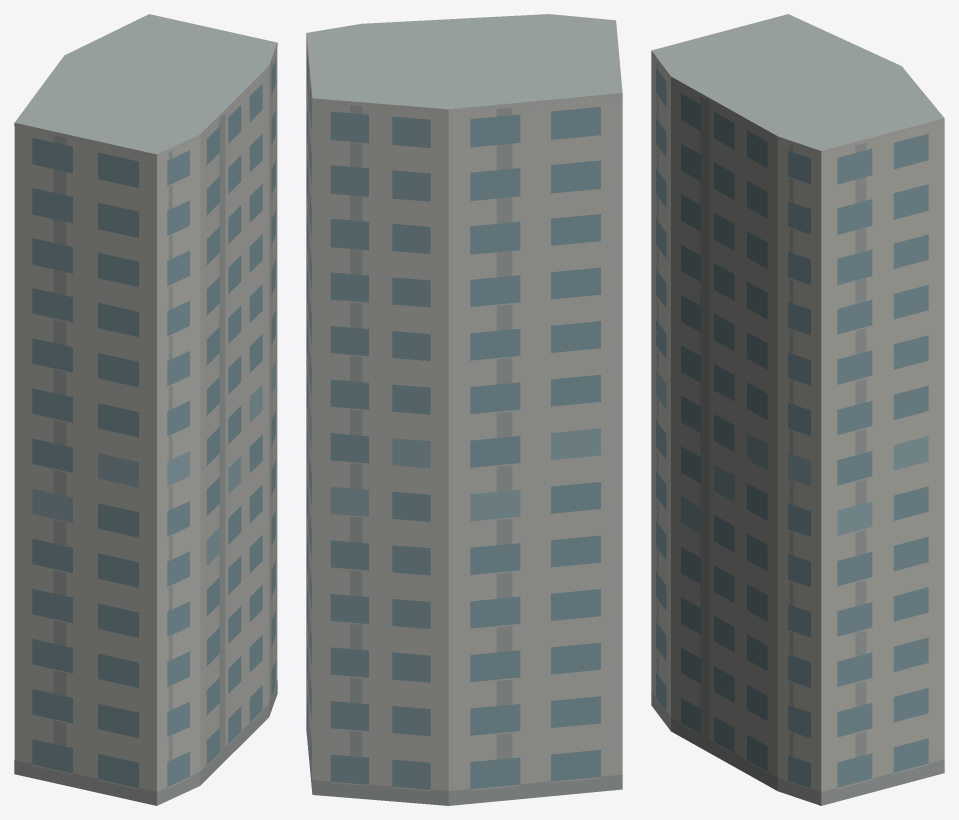
File: residential-4b415d2c-1478-4428-8661-1a3a672dc66f.glb
The picture shows the model from 3 angles, left to right: view 1: azimuth 30°, elevation 25°; view 2: azimuth 150°, elevation 25°; view 3: azimuth 270°, elevation 25°; orthographic projection. The views are drawn at different scales.
Parts seen in each view (by area): view 1: residential-4b415d2c-1478-4428-8661-1a3a672dc66f.tmp; view 2: residential-4b415d2c-1478-4428-8661-1a3a672dc66f.tmp; view 3: residential-4b415d2c-1478-4428-8661-1a3a672dc66f.tmp.
Part boxes in pixels (left/top/right/bottom): residential-4b415d2c-1478-4428-8661-1a3a672dc66f.tmp: left=14, top=14, right=277, bottom=805; residential-4b415d2c-1478-4428-8661-1a3a672dc66f.tmp: left=306, top=14, right=622, bottom=805; residential-4b415d2c-1478-4428-8661-1a3a672dc66f.tmp: left=651, top=14, right=944, bottom=805.
Bounding box in the file's own units: 18.41 × 41 × 16.64.
